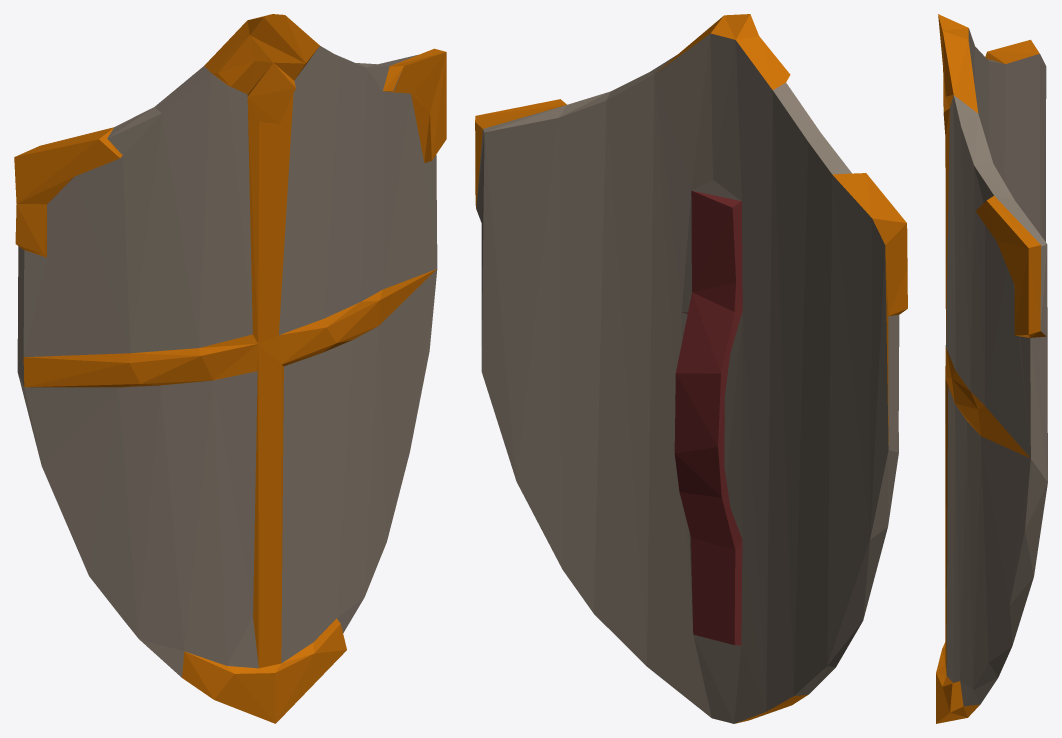
Rendered from MDungeon_Shield_01.FBX.
The picture shows the model from 3 angles, left to right: view 1: azimuth 30°, elevation 25°; view 2: azimuth 150°, elevation 25°; view 3: azimuth 270°, elevation 25°; orthographic projection.
Visible parts, largest first — view 1: MDungeon_Shield_01_LOD0; view 2: MDungeon_Shield_01_LOD0; view 3: MDungeon_Shield_01_LOD0.
Part boxes in pixels (left/top/right/bottom): MDungeon_Shield_01_LOD0: left=14, top=14, right=446, bottom=723; MDungeon_Shield_01_LOD0: left=475, top=14, right=907, bottom=723; MDungeon_Shield_01_LOD0: left=936, top=14, right=1047, bottom=723.
Size of the model in its own units: 0.7373 by 1.16 by 0.1667.
1 material, 1 textured.
